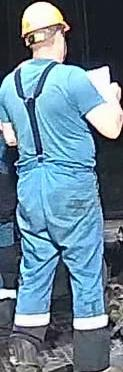helmet: (19, 1, 65, 38)
